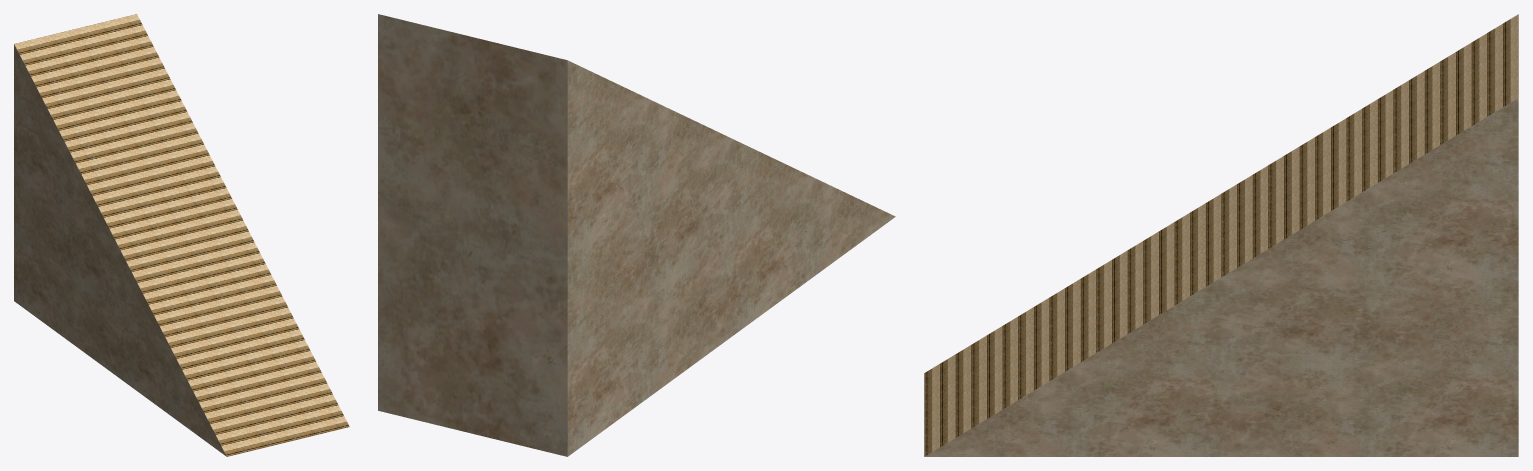
The model's file is thm_tato_imprv_stair_sml_s01_l1.fbx.
The picture shows the model from 3 angles, left to right: view 1: azimuth 30°, elevation 25°; view 2: azimuth 150°, elevation 25°; view 3: azimuth 270°, elevation 25°; orthographic projection. The views are drawn at different scales.
Visible parts, largest first — view 1: mesh_node; view 2: mesh_node; view 3: mesh_node.
Part boxes in pixels (left/top/right/bottom): mesh_node: left=14, top=14, right=349, bottom=456; mesh_node: left=378, top=14, right=895, bottom=456; mesh_node: left=924, top=14, right=1518, bottom=456.
Bounding box in the file's own units: 4 × 8 × 12.
Materials: 2 (2 with a texture image).
